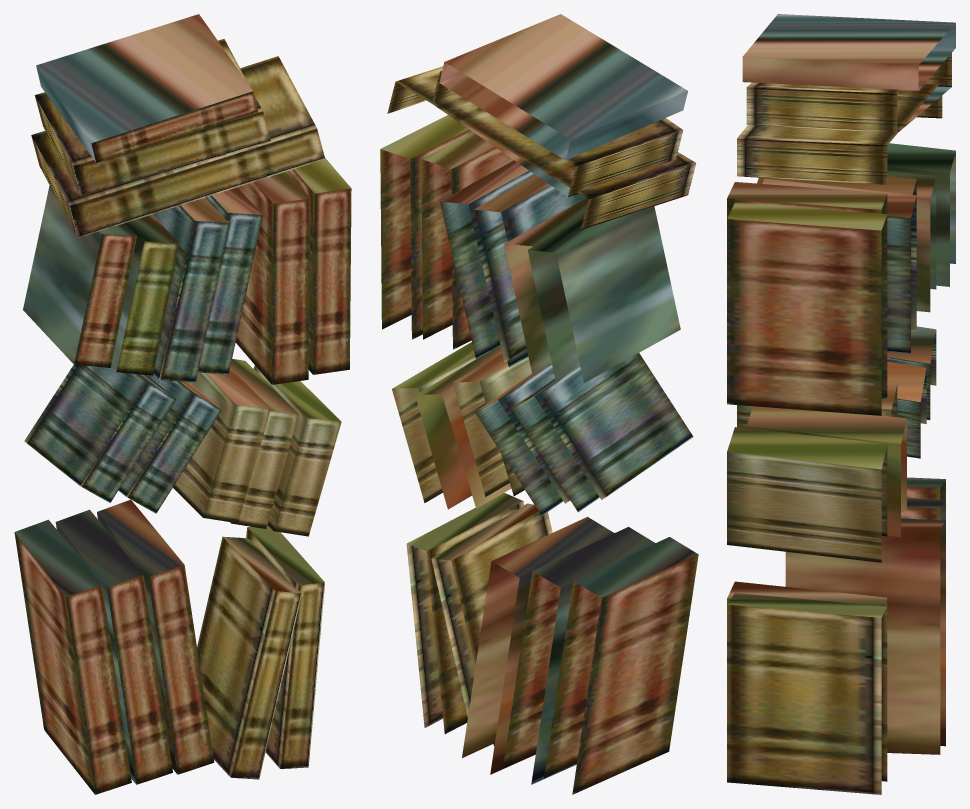
File: book34_1.glb
3 views of the same model, side by side, from view 1: azimuth 30°, elevation 25°; view 2: azimuth 150°, elevation 25°; view 3: azimuth 270°, elevation 25° (orthographic). The views are drawn at different scales.
Visible parts, largest first — view 1: book34_1; view 2: book34_1; view 3: book34_1.
Part boxes in pixels (<box>): book34_1: <box>14,14,351,794</box>; book34_1: <box>380,14,698,794</box>; book34_1: <box>727,14,955,794</box>.
Bounding box in the file's own units: 168 × 404 × 117.
1 material, 1 textured.
